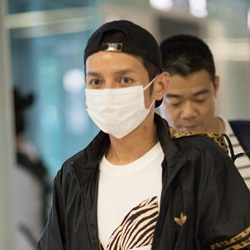mask: (81, 73, 155, 139)
